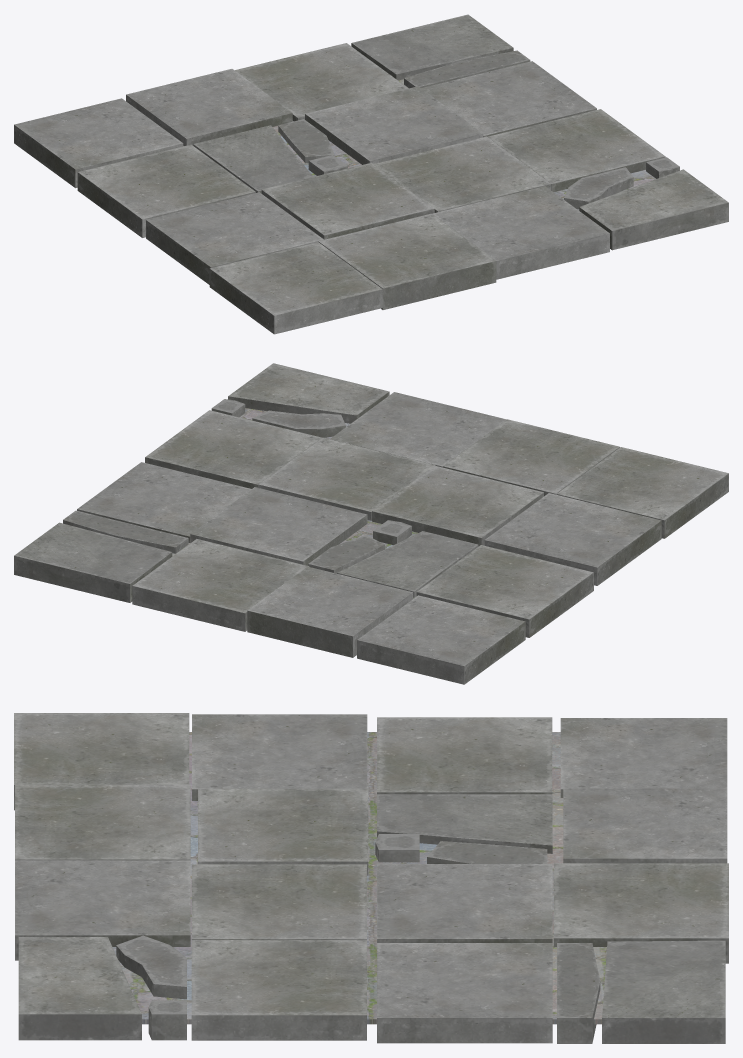
File: SM_floortiles_small.fbx
The picture shows the model from 3 angles, top to bottom: view 1: azimuth 30°, elevation 25°; view 2: azimuth 150°, elevation 25°; view 3: azimuth 270°, elevation 25°; orthographic projection. The views are drawn at different scales.
Parts seen in each view (by area): view 1: DarkFantasyObject59; view 2: DarkFantasyObject59; view 3: DarkFantasyObject59.
Boxes of the visible parts, left/top/right/bottom form: DarkFantasyObject59: left=14, top=14, right=728, bottom=334; DarkFantasyObject59: left=14, top=363, right=728, bottom=684; DarkFantasyObject59: left=14, top=713, right=728, bottom=1043.
Bounding box in the file's own units: 197 × 9.53 × 197.
